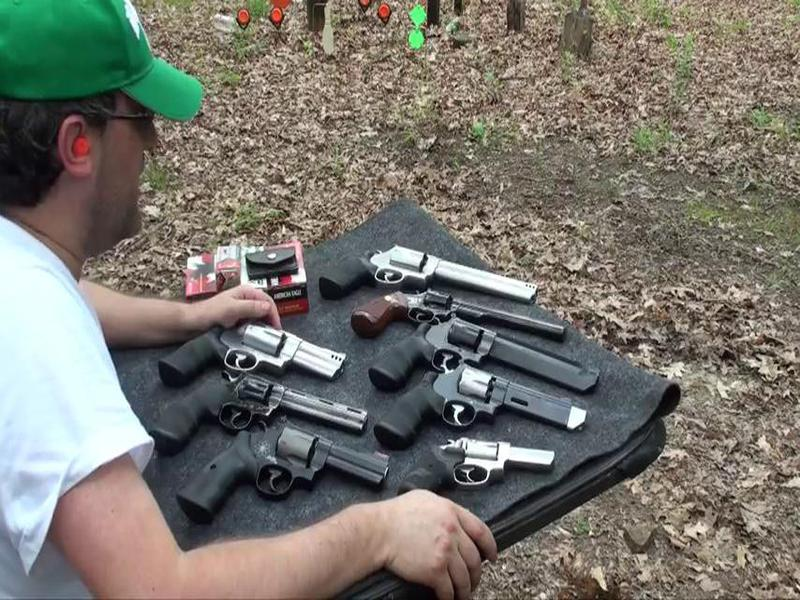Revolver: (317, 241, 540, 303)
